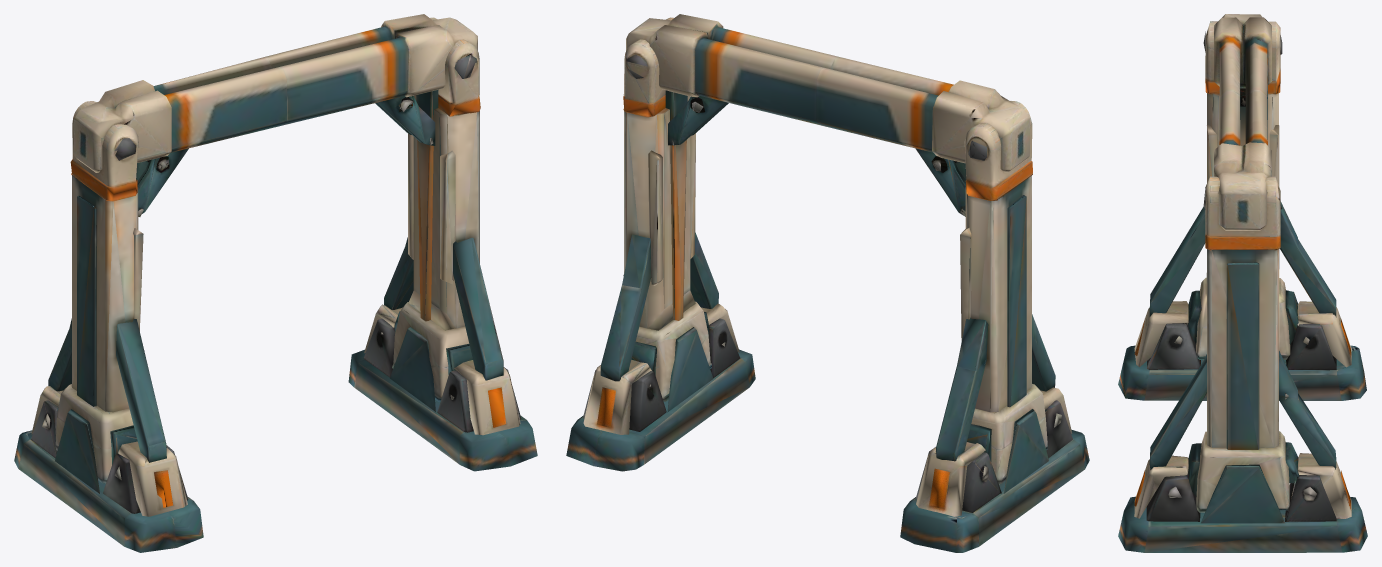
The model's file is rocket_gantry-lod1.fef98b7bad20.glb.
3 views of the same model, side by side, from view 1: azimuth 30°, elevation 25°; view 2: azimuth 150°, elevation 25°; view 3: azimuth 270°, elevation 25° (orthographic). The views are drawn at different scales.
Visible parts, largest first — view 1: geometry_0; view 2: geometry_0; view 3: geometry_0.
Boxes of the visible parts, x1,y1,x2,y2 form: geometry_0: (14,14,537,552); geometry_0: (566,14,1089,552); geometry_0: (1118,14,1367,552).
Size of the model in its own units: 0.9565 by 0.8926 by 0.5435.
1 material, 1 textured.
